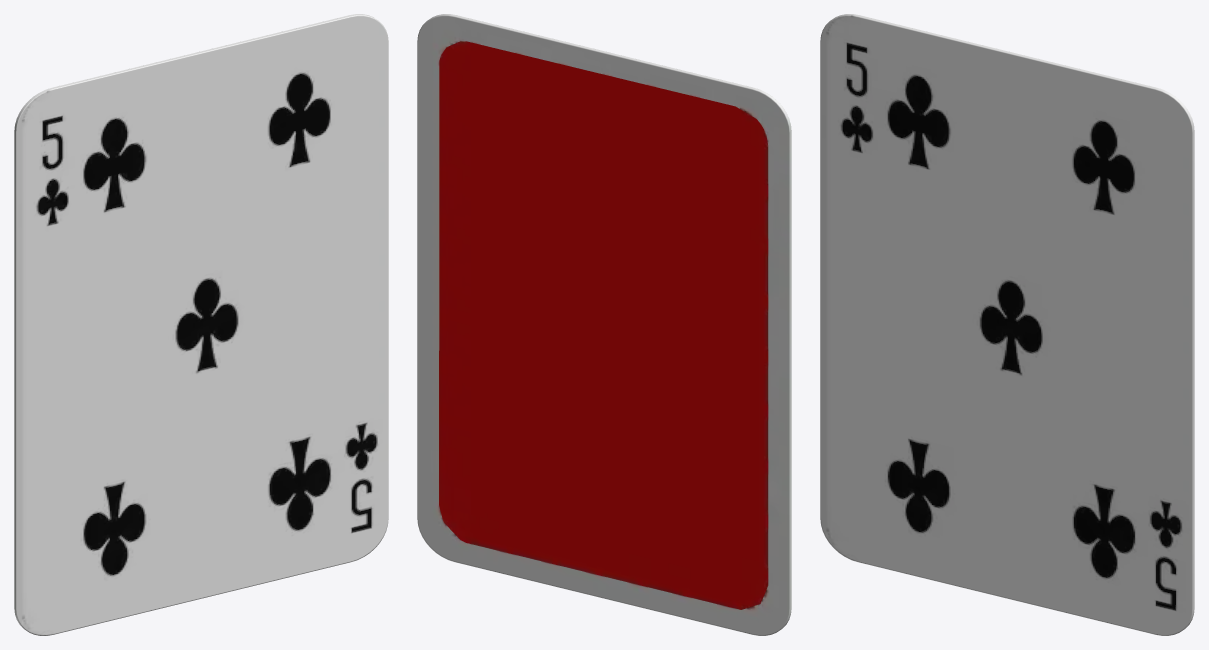
The model's file is clubs_5-transformed.glb.
The picture shows the model from 3 angles, left to right: view 1: azimuth 30°, elevation 25°; view 2: azimuth 150°, elevation 25°; view 3: azimuth 330°, elevation 25°; orthographic projection.
Visible parts, largest first — view 1: defaultMaterial.019; view 2: defaultMaterial.019; view 3: defaultMaterial.019.
Boxes of the visible parts, left/top/right/bottom form: defaultMaterial.019: left=14, top=14, right=388, bottom=635; defaultMaterial.019: left=417, top=14, right=791, bottom=635; defaultMaterial.019: left=820, top=14, right=1194, bottom=635.
Bounding box in the file's own units: 0.1408 × 0.1972 × 0.00111.
Materials: 1 (1 with a texture image).
